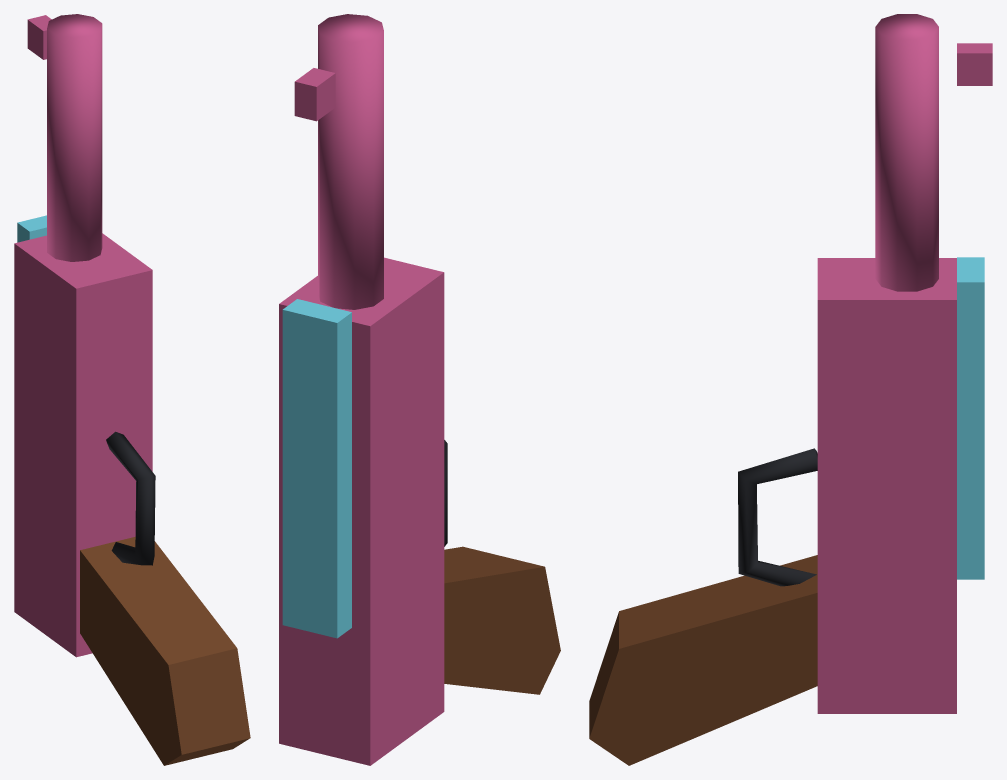
The model's file is rainbow_gun.glb.
The picture shows the model from 3 angles, left to right: view 1: azimuth 30°, elevation 25°; view 2: azimuth 150°, elevation 25°; view 3: azimuth 270°, elevation 25°; orthographic projection. The views are drawn at different scales.
Visible parts, largest first — view 1: rainbow_gun_v0; view 2: rainbow_gun_v0; view 3: rainbow_gun_v0.
Part boxes in pixels (x1=…): rainbow_gun_v0: x1=14, y1=14, x2=250, y2=765; rainbow_gun_v0: x1=279, y1=14, x2=560, y2=765; rainbow_gun_v0: x1=589, y1=14, x2=992, y2=765.
Size of the model in its own units: 0.05 by 0.4 by 0.203.
